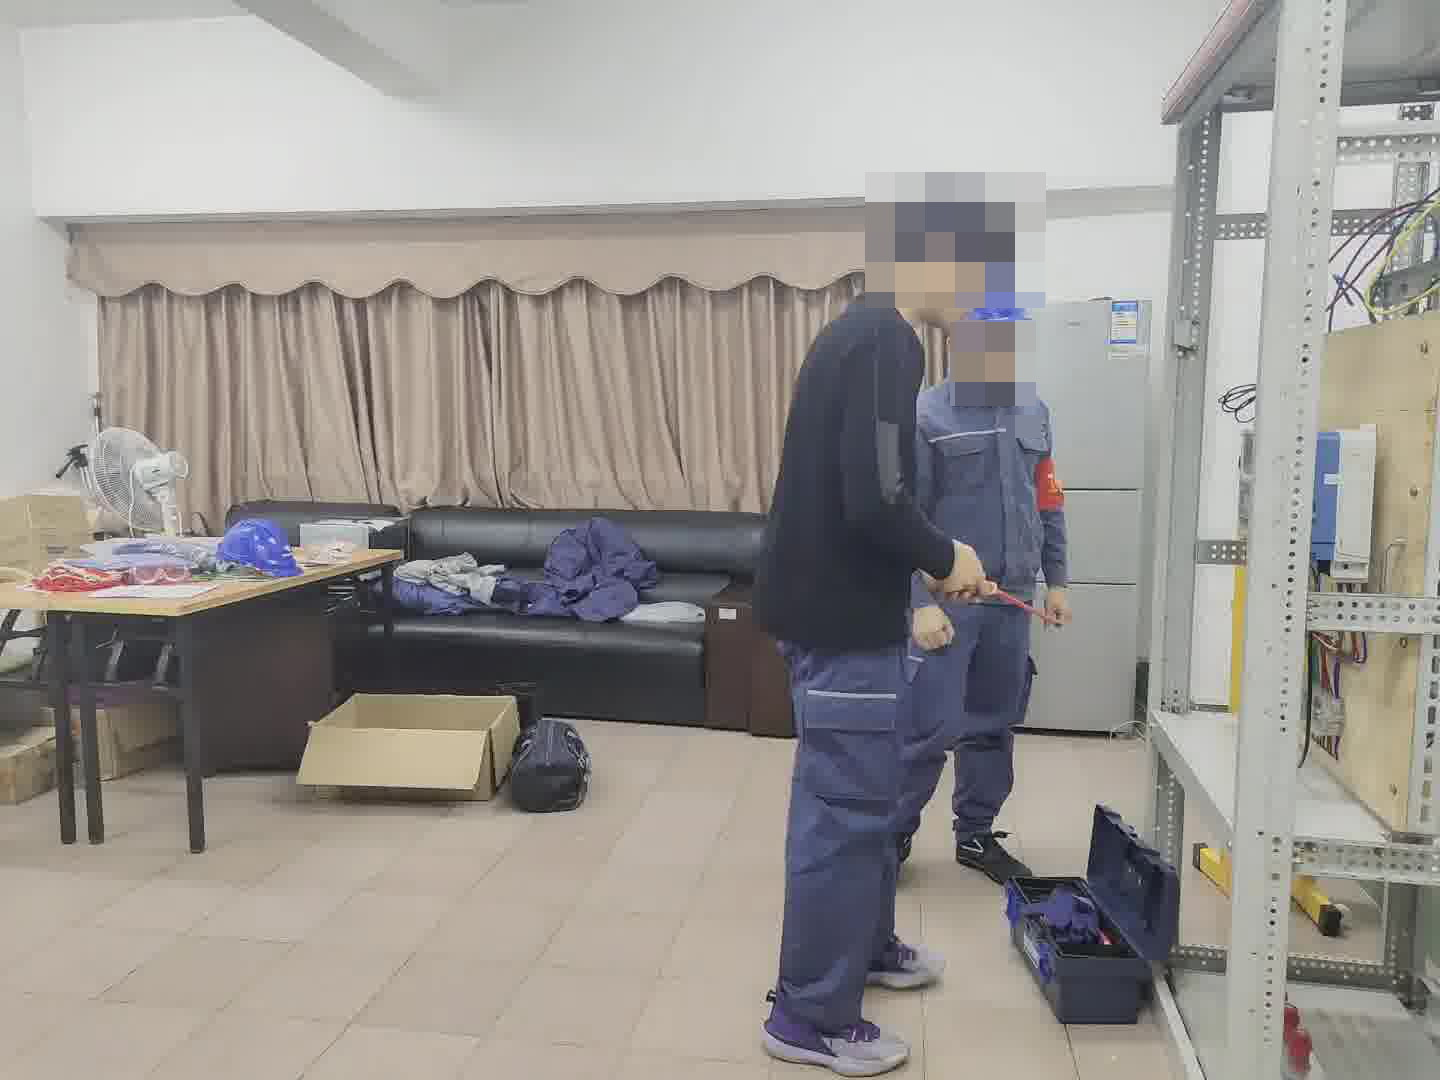badge: (1034, 457, 1067, 515)
downsuit: (775, 645, 923, 1022), (901, 598, 1040, 844)
halt: (955, 274, 1034, 387)
hand: (934, 541, 989, 592), (909, 607, 954, 652), (1044, 591, 1068, 629)
noear: (899, 236, 988, 331)
person: (745, 182, 1019, 1070), (898, 273, 1074, 887)
unhalt: (872, 184, 1018, 325)
upcloth: (765, 293, 939, 644)
upsuit: (918, 375, 1054, 606)
